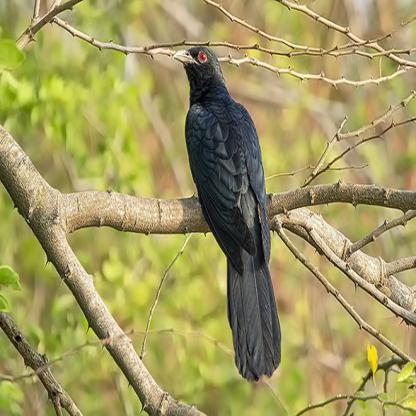Burung: (170, 46, 281, 383)
